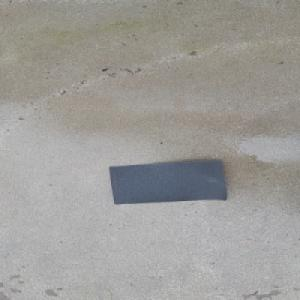PaintChip: (108, 159, 226, 203)
